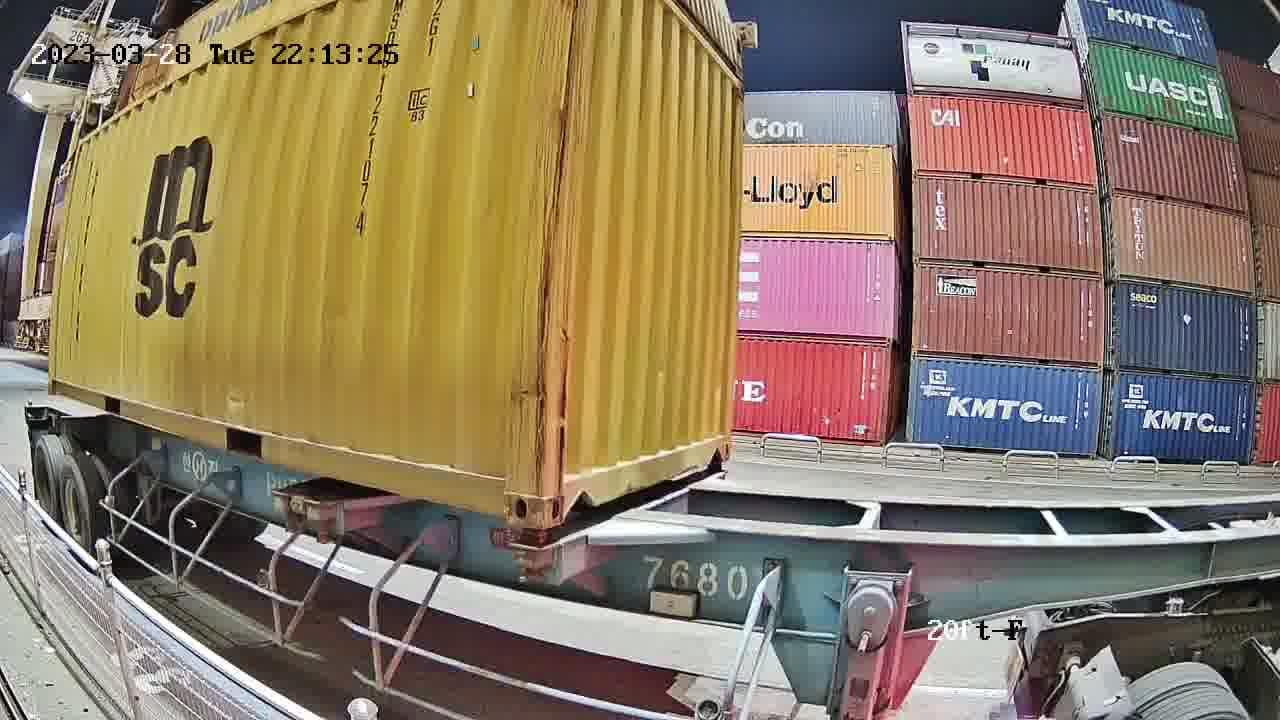Chassis: (512, 470, 726, 581)
Cone: (508, 532, 549, 587)
Hole_L: (540, 458, 588, 527)
Hole_R: (479, 460, 540, 530), (705, 423, 731, 470)
Tire: (58, 457, 92, 558), (35, 439, 57, 523)
